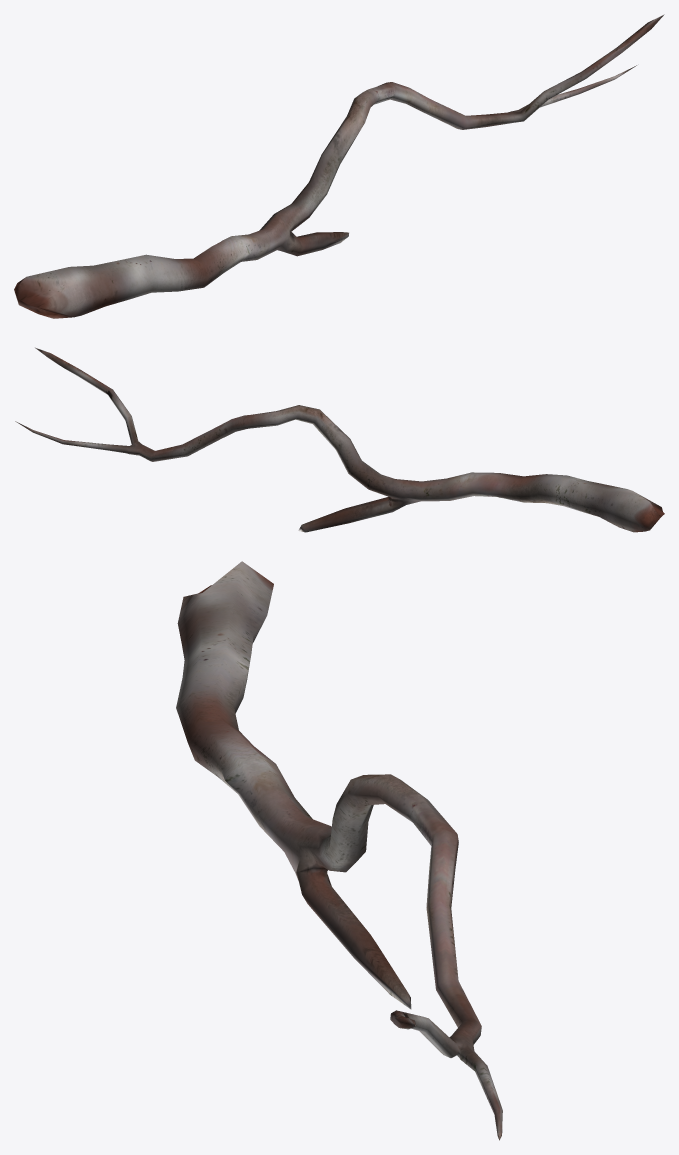
File: StickA.fbx
3 renders of one model, top to bottom at view 1: azimuth 30°, elevation 25°; view 2: azimuth 150°, elevation 25°; view 3: azimuth 270°, elevation 25°, orthographic. The views are drawn at different scales.
Visible parts, largest first — view 1: StickA_LOD0; view 2: StickA_LOD0; view 3: StickA_LOD0.
Part boxes in pixels (box(x1,y1,x2,y2)): StickA_LOD0: box(14, 14, 664, 318); StickA_LOD0: box(15, 347, 664, 532); StickA_LOD0: box(176, 561, 502, 1140).
Size of what is drawn, in the model's own units: 197 by 39.02 by 47.91.
